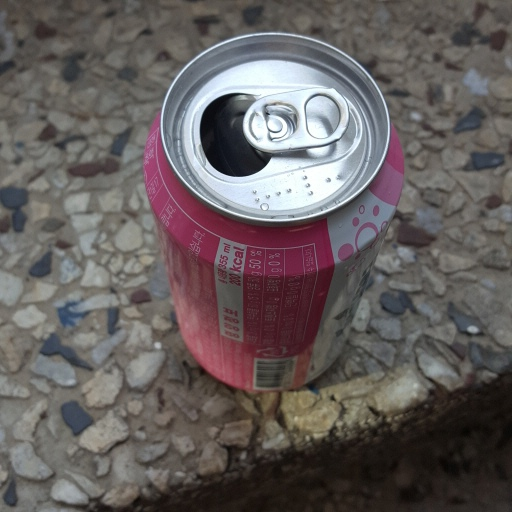Metal_0: (143, 32, 406, 392)
